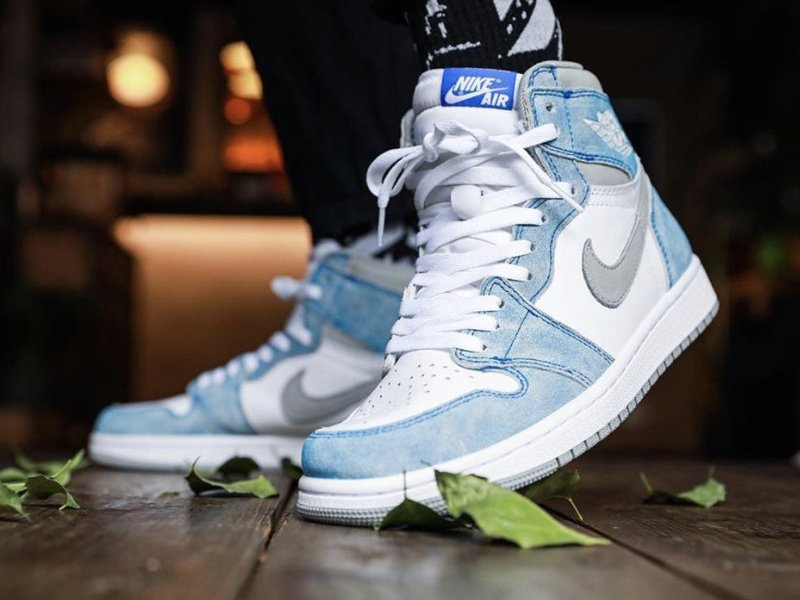Jordan 1: (295, 54, 725, 533)
